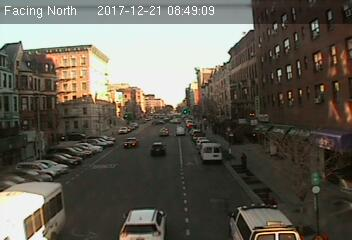car: (118, 206, 164, 240), (150, 141, 167, 155), (123, 138, 139, 148), (159, 127, 169, 135)
police: (223, 202, 300, 240)
truck: (200, 143, 223, 164), (175, 125, 187, 137)
